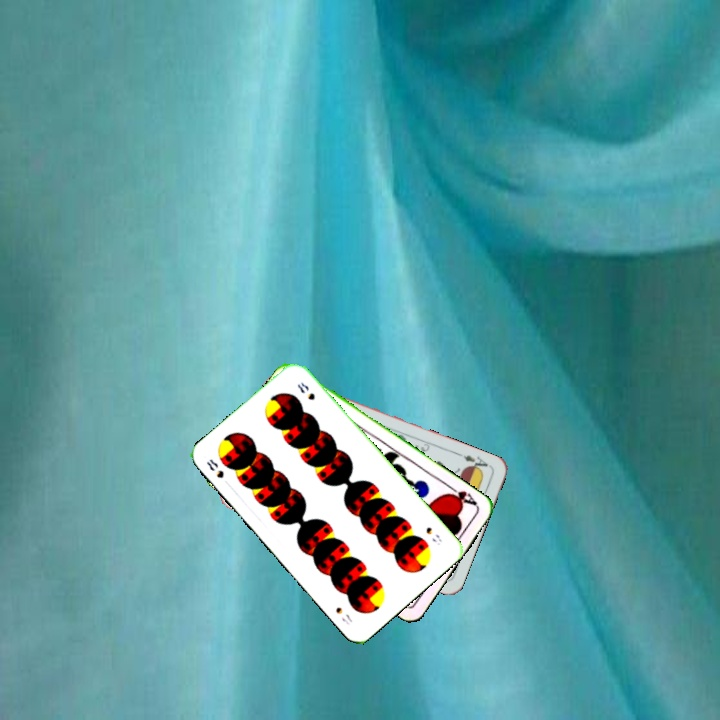EA: (454, 449, 493, 474)
HA: (443, 480, 480, 508)
S8: (202, 455, 227, 481), (422, 523, 444, 548)
